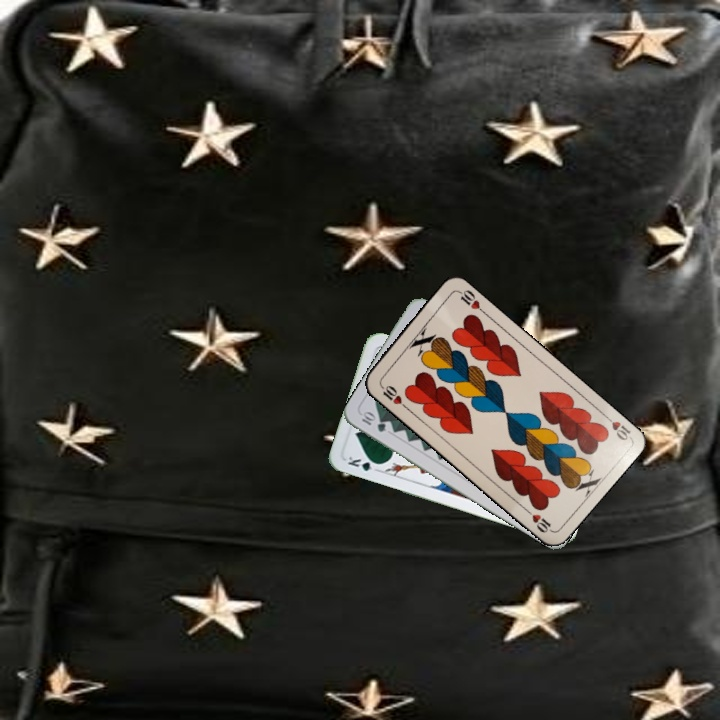G10: (357, 408, 388, 435)
GK: (343, 452, 383, 474)
H10: (599, 410, 633, 443), (376, 380, 410, 411)
